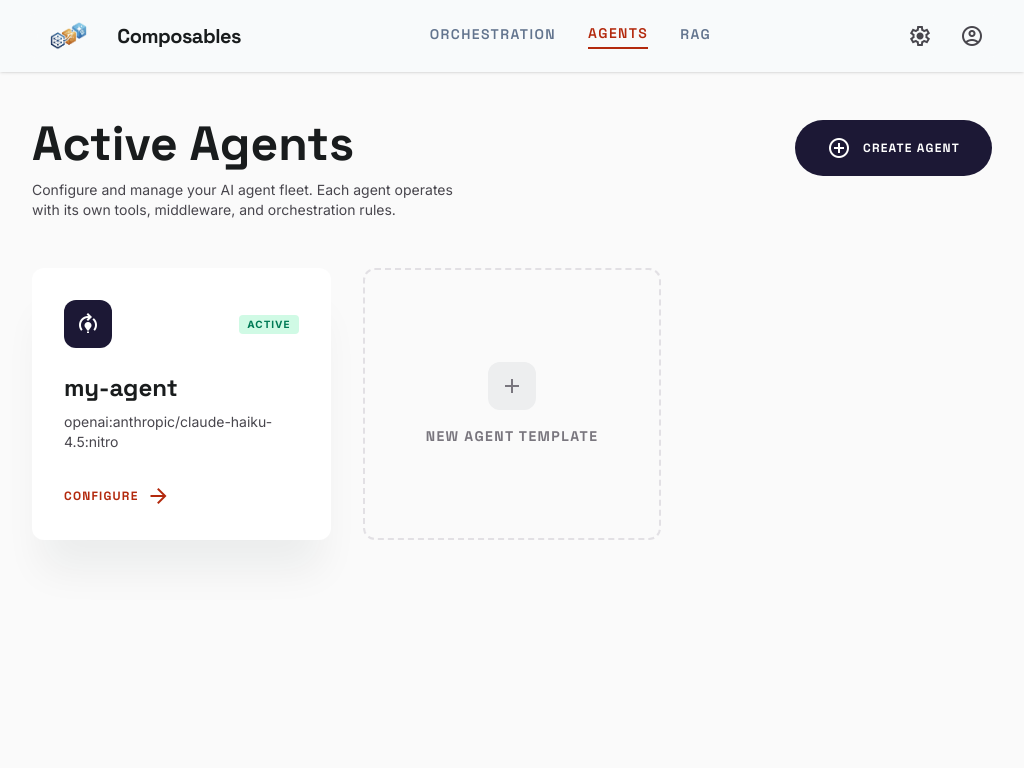
AgentsPage › opens CreateAgentDialog when Create Agent button is clicked
The image size is (1024, 768).
Click the button "Create Agent" at [893, 148], box [795,120,992,176]
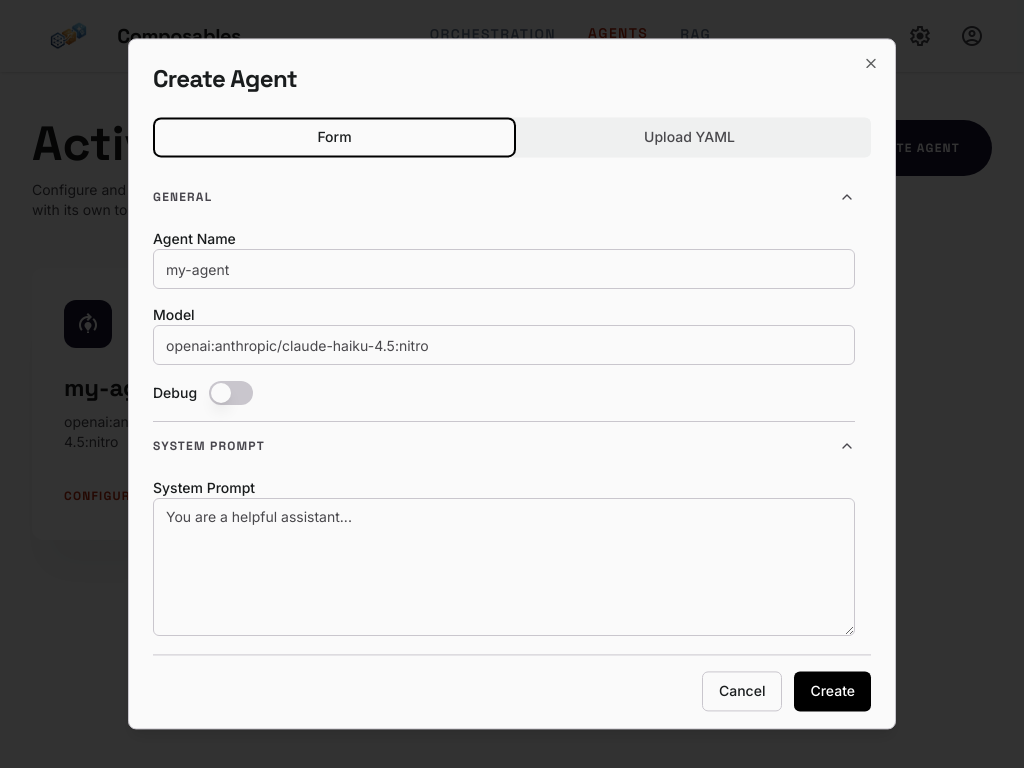
Now the heading "Create Agent" is shown, box [153,63,297,94]
